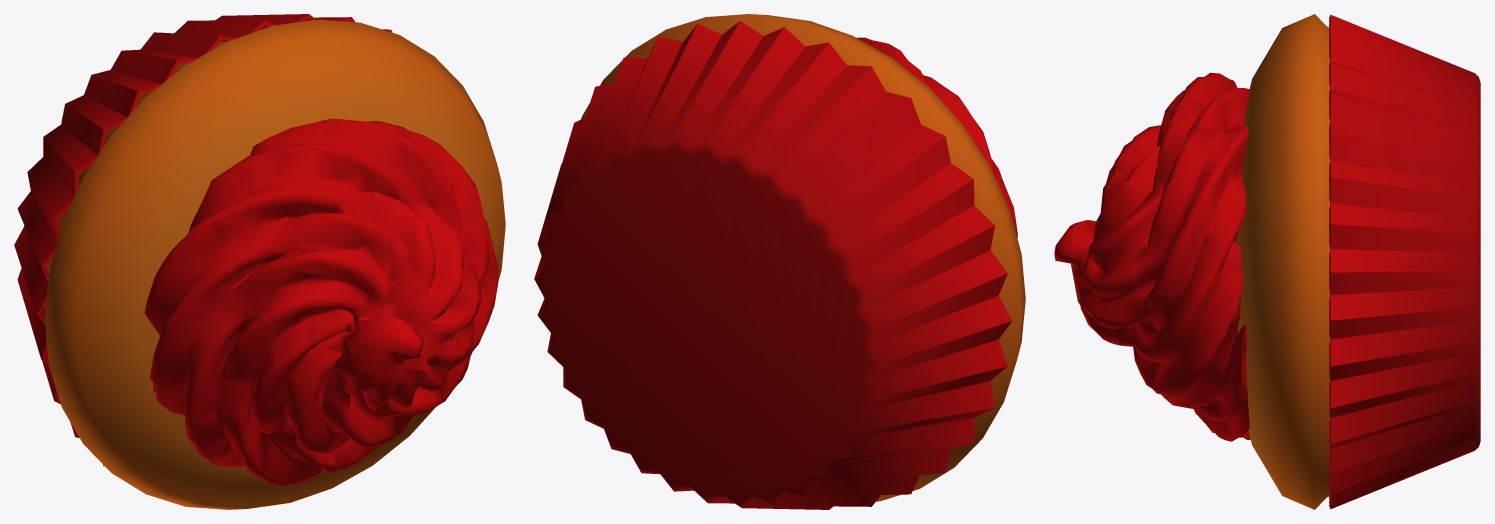
File: Cupcake Tray Sort - Cake 7.fbx
3 renders of one model, left to right at view 1: azimuth 30°, elevation 25°; view 2: azimuth 150°, elevation 25°; view 3: azimuth 270°, elevation 25°, orthographic. The views are drawn at different scales.
Parts seen in each view (by area): view 1: 7. cake red; view 2: 7. cake red; view 3: 7. cake red.
Part boxes in pixels (x1,y1,x2,y2): 7. cake red: (14, 14, 505, 509); 7. cake red: (534, 14, 1025, 509); 7. cake red: (1054, 14, 1480, 509).
Bounding box in the file's own units: 0.1375 × 0.1375 × 0.1181.
